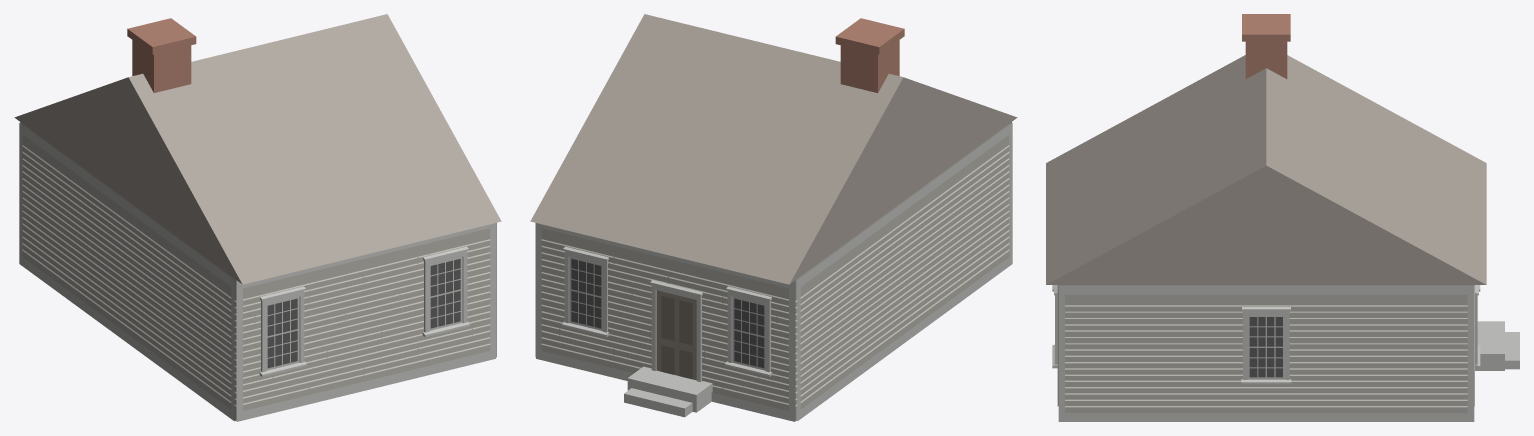
File: recon_1835_blk_south_water_franklin_d4_02__inferred_1835.glb
The picture shows the model from 3 angles, left to right: view 1: azimuth 30°, elevation 25°; view 2: azimuth 150°, elevation 25°; view 3: azimuth 270°, elevation 25°; orthographic projection. The views are drawn at different scales.
Parts seen in each view (by area): view 1: recon_1835_blk_south_water_franklin_d4_02__inferred_1835; view 2: recon_1835_blk_south_water_franklin_d4_02__inferred_1835; view 3: recon_1835_blk_south_water_franklin_d4_02__inferred_1835.
Boxes of the visible parts, x1=… form: recon_1835_blk_south_water_franklin_d4_02__inferred_1835: x1=14, y1=14, x2=501, y2=421; recon_1835_blk_south_water_franklin_d4_02__inferred_1835: x1=530, y1=14, x2=1017, y2=421; recon_1835_blk_south_water_franklin_d4_02__inferred_1835: x1=1046, y1=14, x2=1519, y2=421.
Bounding box in the file's own units: 5.97 × 6.47 × 9.55.
